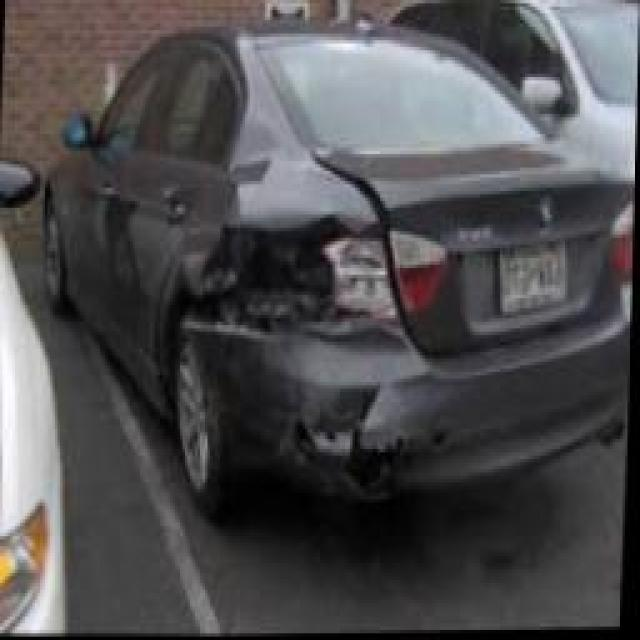Fender: (198, 208, 325, 330)
Light: (328, 235, 392, 323)
